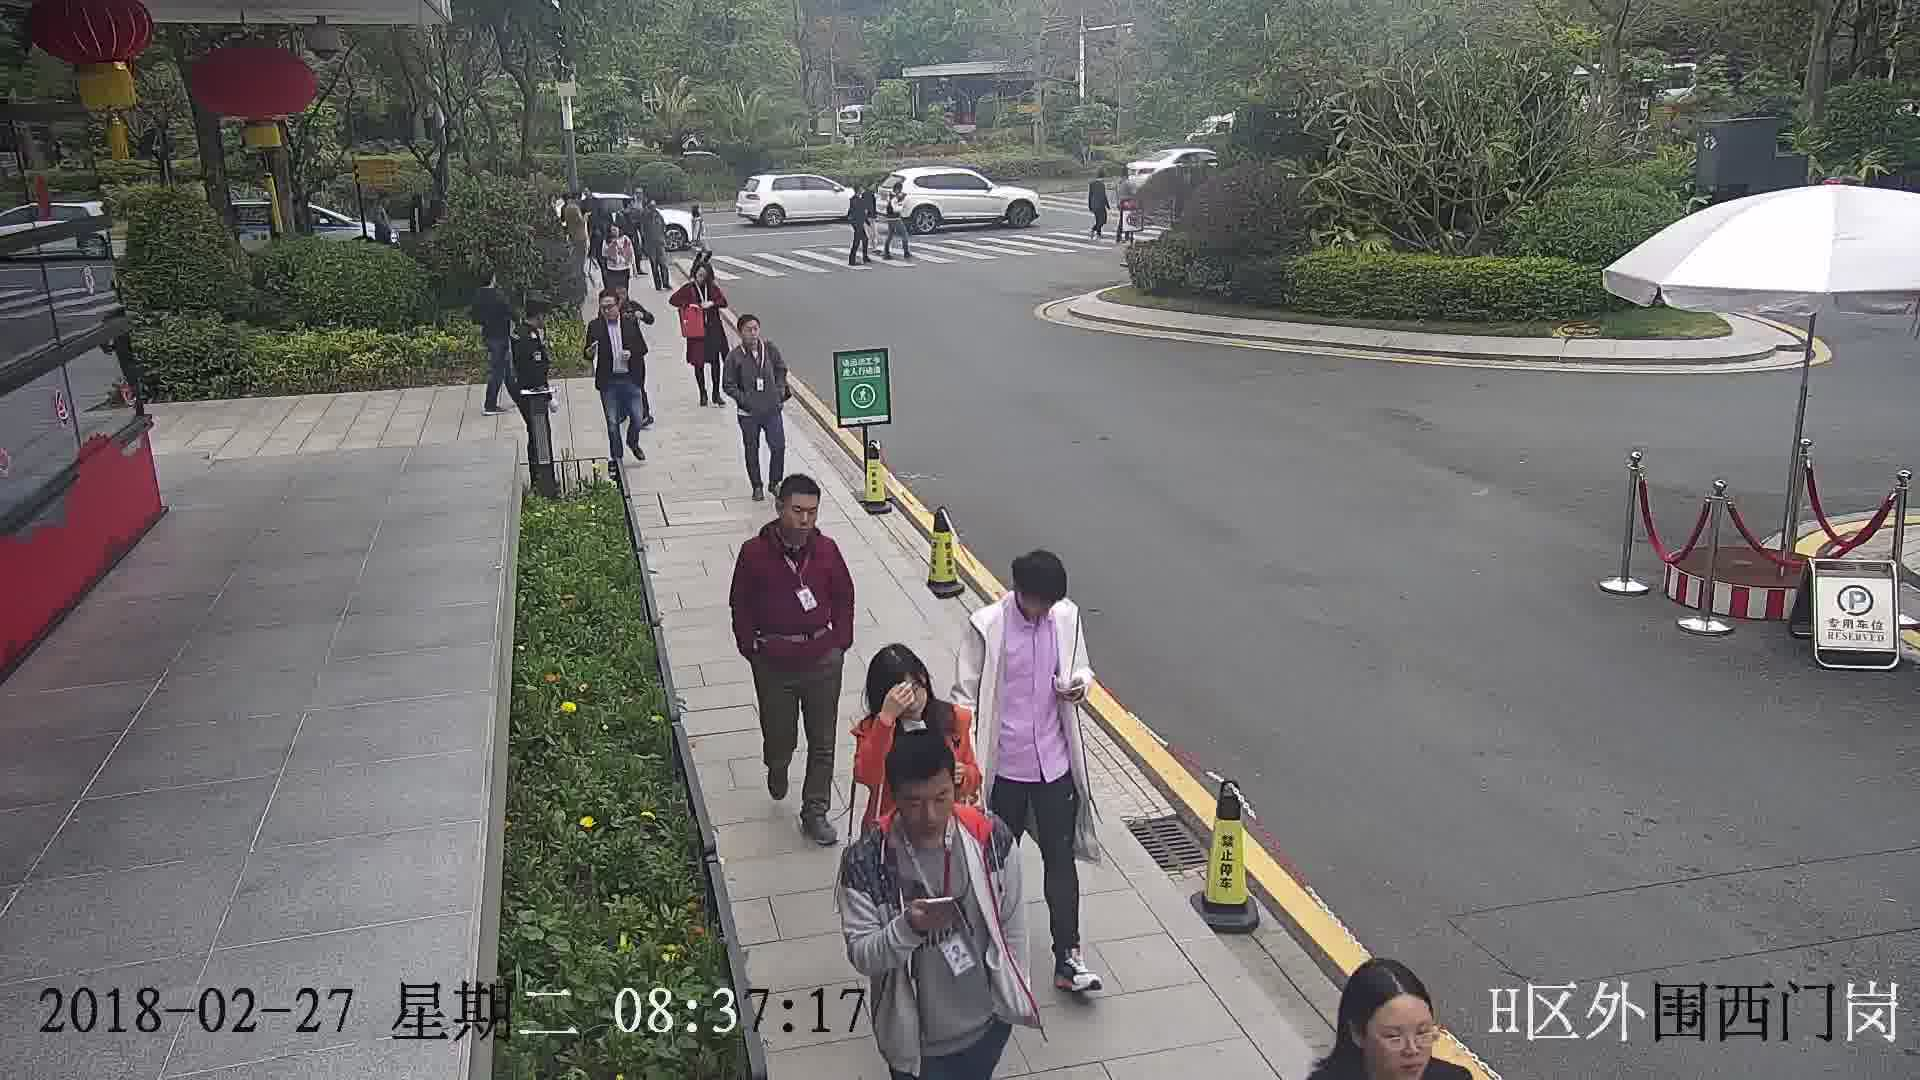face: (1355, 991, 1442, 1078), (894, 776, 955, 837), (773, 490, 824, 544)
person: (848, 737, 1013, 879), (1305, 957, 1475, 1080), (850, 639, 968, 756), (972, 543, 1088, 659), (736, 473, 844, 571), (727, 310, 782, 361), (590, 294, 638, 333), (473, 261, 512, 308), (512, 297, 547, 346), (679, 256, 719, 299), (635, 193, 662, 224), (879, 178, 907, 207), (844, 180, 873, 204), (1089, 161, 1113, 191), (562, 186, 584, 218), (605, 219, 630, 245)
